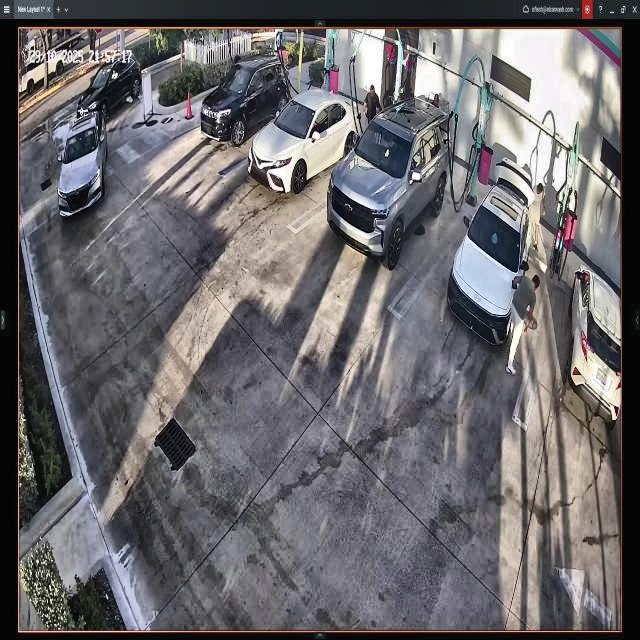Car: (329, 98, 450, 267), (451, 162, 538, 348), (250, 88, 362, 192), (198, 53, 290, 148)
